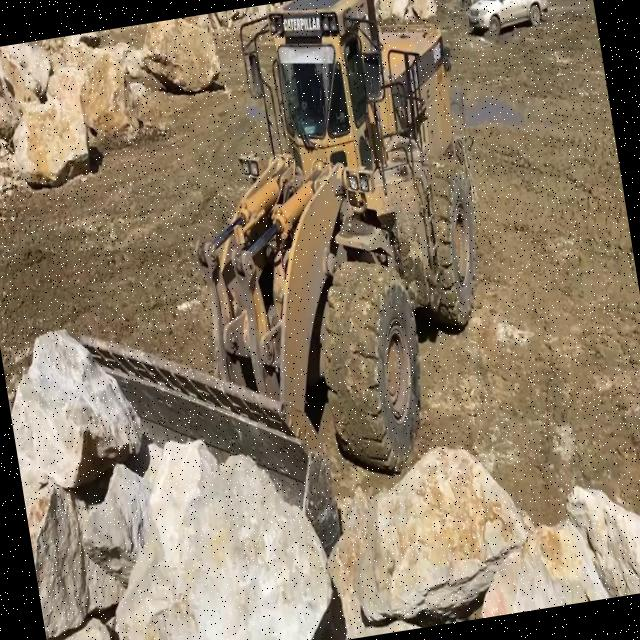Loader: (37, 0, 517, 516)
